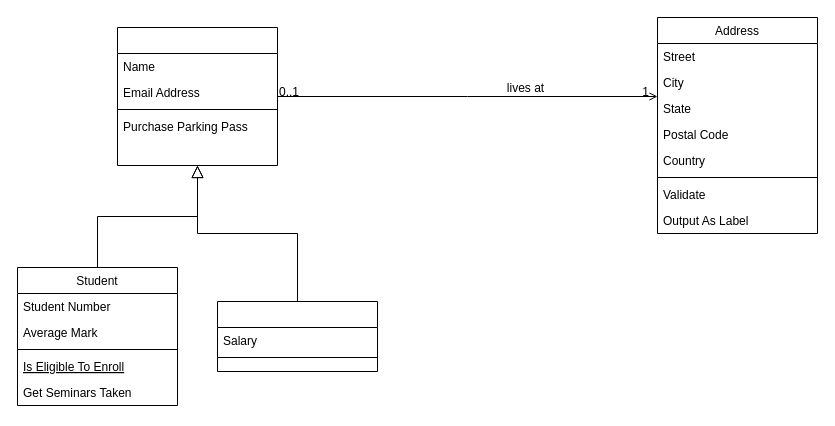
Image size: 835x426. Some labels were removed from this diagram. Each missing label, with the box of its shape:
Computer: (116, 26, 278, 166)
Professor: (216, 300, 378, 372)
